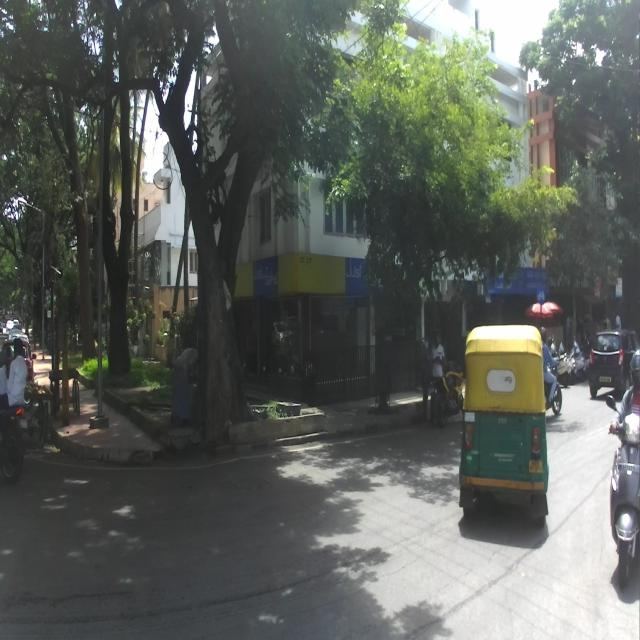autorickshaw: (459, 322, 548, 527)
motorcycle: (433, 354, 464, 426), (0, 402, 27, 482)
scooter: (606, 393, 640, 588)
